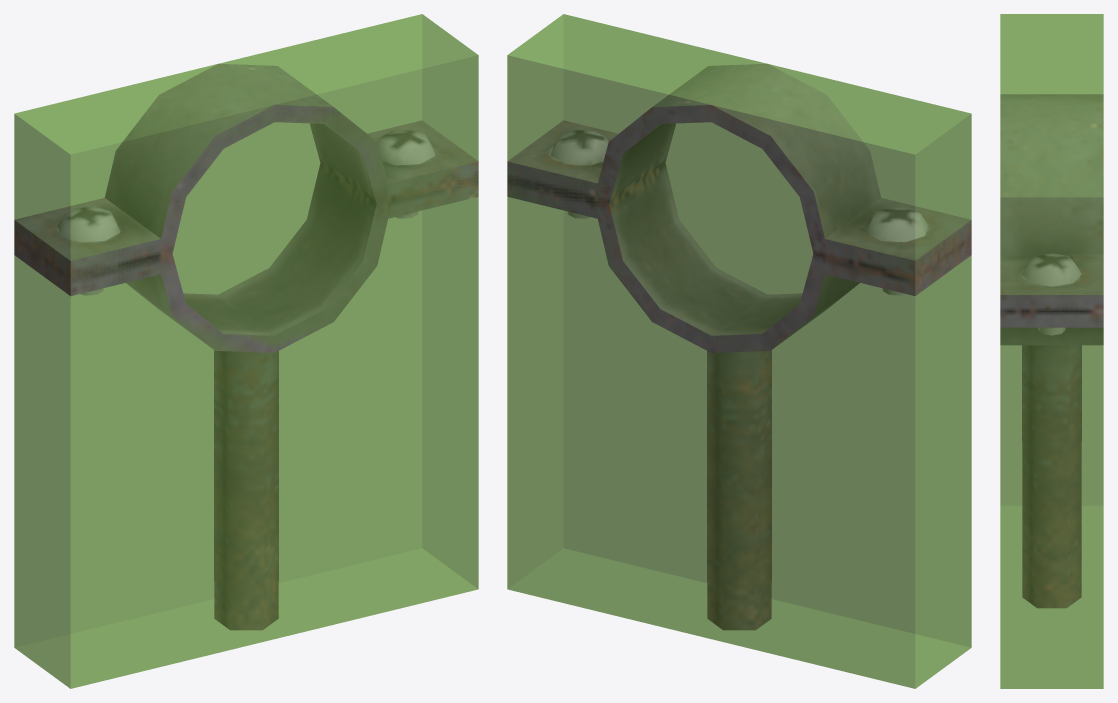
File: p_PipeWallMount_01_a.fbx
3 views of the same model, side by side, from view 1: azimuth 30°, elevation 25°; view 2: azimuth 150°, elevation 25°; view 3: azimuth 270°, elevation 25° (orthographic). The views are drawn at different scales.
Parts seen in each view (by area): view 1: p_PipeWallMount_01_a_col_01, p_PipeWallMount_01_a_LOD0; view 2: p_PipeWallMount_01_a_col_01, p_PipeWallMount_01_a_LOD0; view 3: p_PipeWallMount_01_a_col_01, p_PipeWallMount_01_a_LOD0.
Boxes of the visible parts, <box> form: p_PipeWallMount_01_a_col_01: <box>14,14,478,688</box>; p_PipeWallMount_01_a_LOD0: <box>14,63,478,630</box>; p_PipeWallMount_01_a_col_01: <box>507,14,971,688</box>; p_PipeWallMount_01_a_LOD0: <box>507,63,971,630</box>; p_PipeWallMount_01_a_col_01: <box>1000,14,1103,688</box>; p_PipeWallMount_01_a_LOD0: <box>1000,94,1103,608</box>.
Size of what is drawn, in the model's own units: 5 by 6.25 by 1.19.
